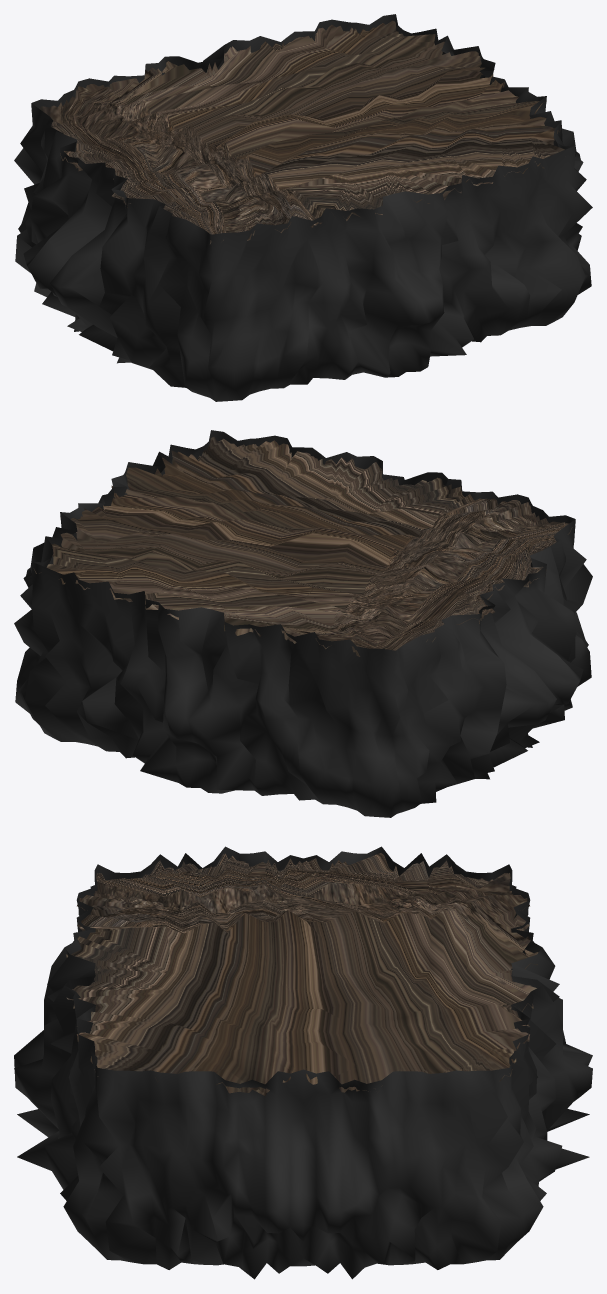
The model's file is CaveHuntLevel 1.fbx.
3 renders of one model, top to bottom at view 1: azimuth 30°, elevation 25°; view 2: azimuth 150°, elevation 25°; view 3: azimuth 270°, elevation 25°, orthographic. The views are drawn at different scales.
Visible parts, largest first — view 1: Cube, Cube.001; view 2: Cube, Cube.001; view 3: Cube, Cube.001.
Part boxes in pixels (box(x1,y1,x2,y2)): Cube: box(14, 14, 592, 401); Cube.001: box(31, 20, 564, 244); Cube: box(14, 430, 592, 817); Cube.001: box(33, 436, 575, 656); Cube: box(14, 846, 592, 1279); Cube.001: box(66, 853, 538, 1096).
Bounding box in the file's own units: 122048 × 42522 × 100964.
2 materials, 1 textured.
